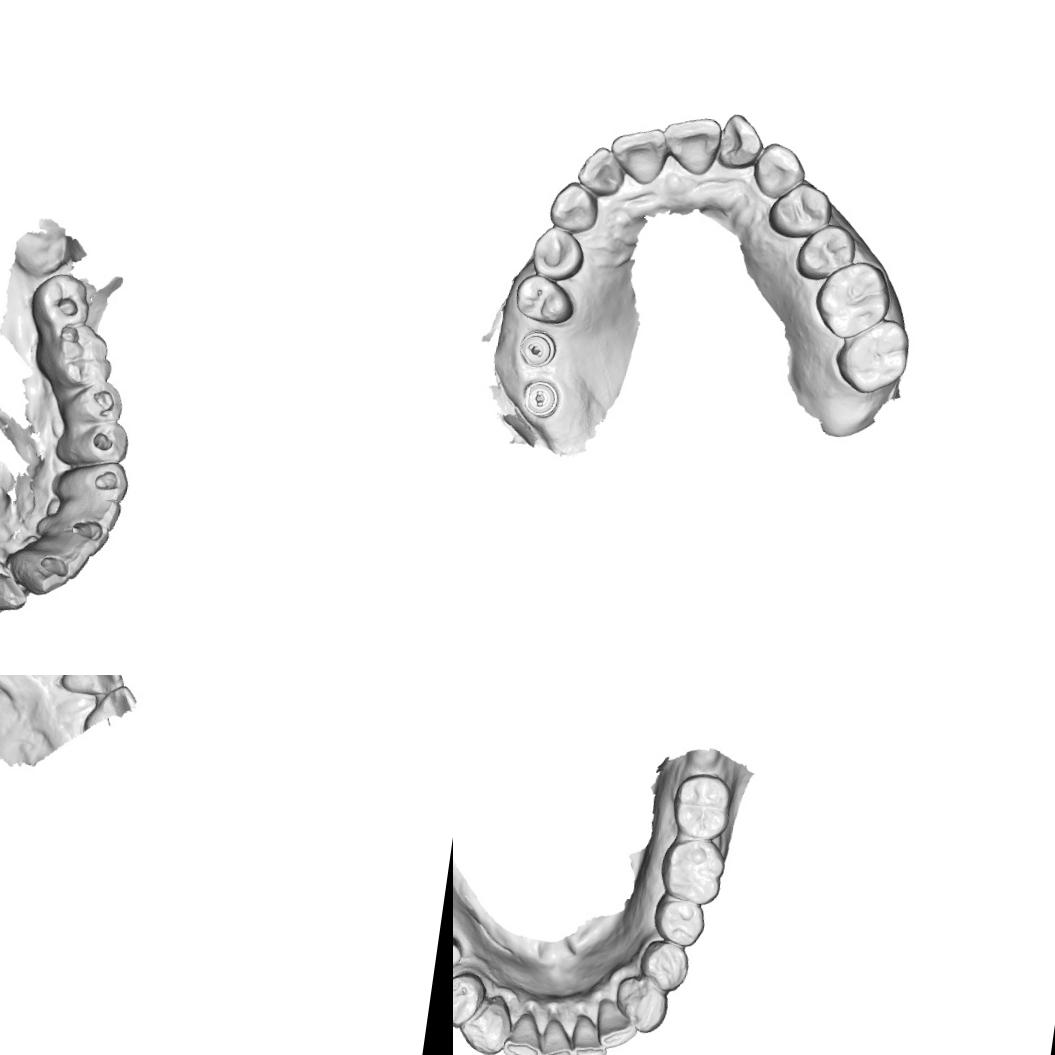abutment: (453, 932, 465, 969)
canine: (50, 453, 132, 512), (611, 971, 673, 1037), (455, 989, 516, 1055), (748, 138, 810, 202), (546, 178, 603, 234)
crown: (0, 555, 35, 620)
implant_minus: (516, 326, 559, 370), (520, 377, 562, 419)
incisor: (658, 111, 724, 178), (606, 122, 672, 188), (30, 510, 115, 560), (7, 545, 72, 601), (713, 110, 768, 174), (30, 531, 96, 584), (46, 488, 123, 532), (573, 143, 630, 201), (592, 997, 640, 1052), (500, 1008, 546, 1055), (567, 1013, 612, 1055), (59, 675, 129, 700), (539, 1015, 579, 1055)
molar: (810, 255, 895, 345), (36, 317, 121, 400), (831, 312, 912, 399), (23, 266, 96, 340), (656, 834, 728, 908), (668, 770, 736, 842)
premolar: (52, 413, 134, 474), (52, 370, 128, 434), (764, 177, 836, 244), (792, 218, 859, 286), (511, 270, 579, 328), (528, 224, 588, 284), (650, 893, 709, 949), (636, 936, 692, 994), (453, 966, 488, 1032)
